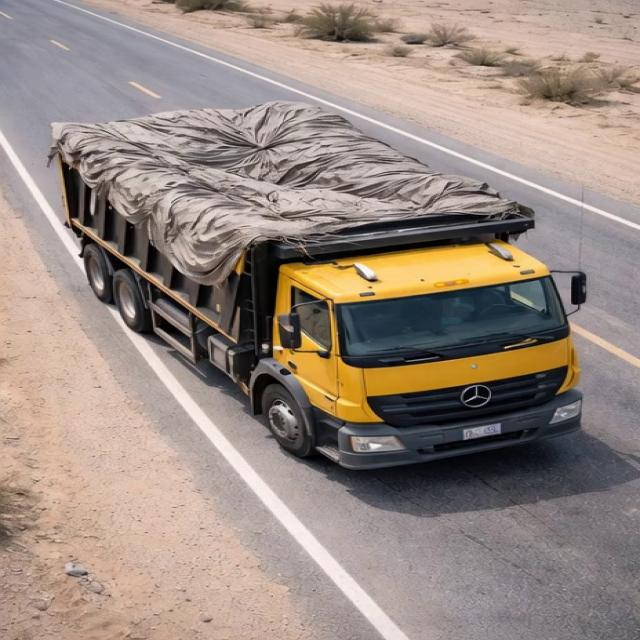Box: (55, 114, 531, 242)
Truck: (19, 83, 612, 468)
